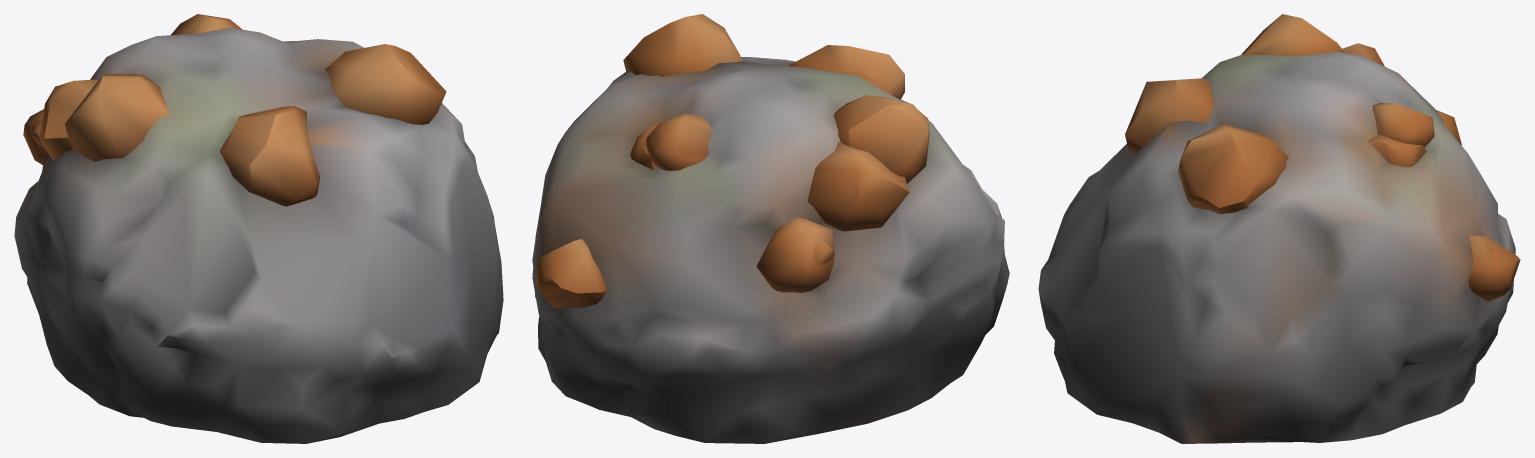
The model's file is node-copperVein-v1.glb.
The picture shows the model from 3 angles, left to right: view 1: azimuth 30°, elevation 25°; view 2: azimuth 150°, elevation 25°; view 3: azimuth 270°, elevation 25°; orthographic projection. The views are drawn at different scales.
Visible parts, largest first — view 1: 0_vein; view 2: 0_vein; view 3: 0_vein.
Boxes of the visible parts, x1,y1,x2,y2 form: 0_vein: (14,14,503,443); 0_vein: (532,14,1009,443); 0_vein: (1038,14,1520,443).
Bounding box in the file's own units: 1.93 × 1.29 × 2.04.
